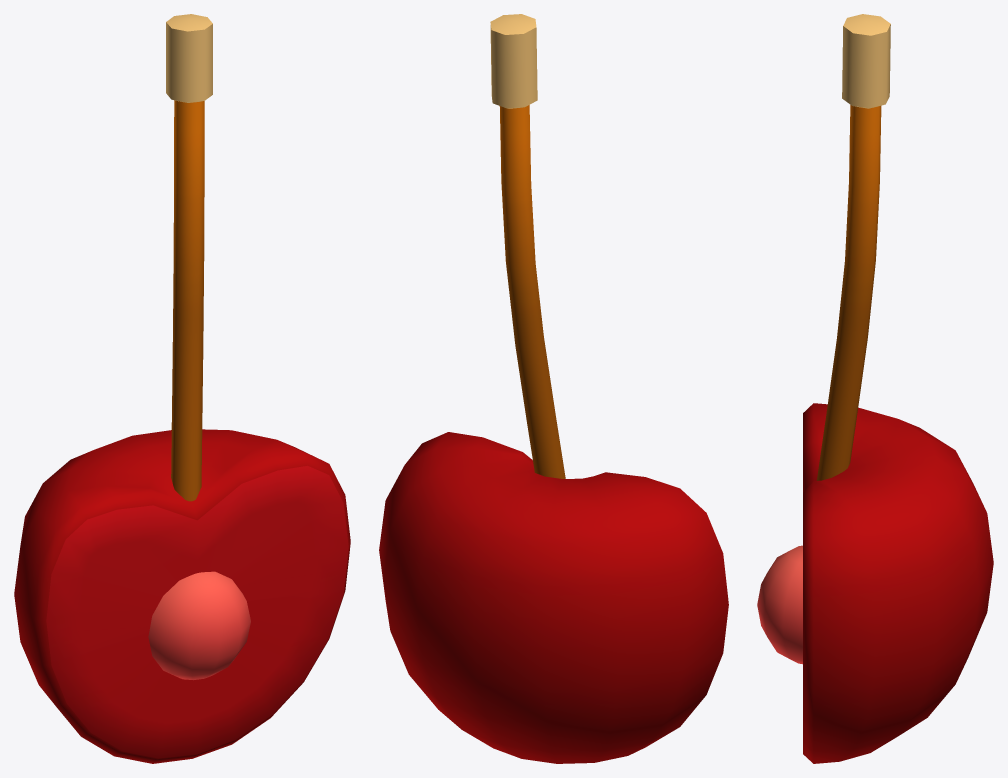
File: Half_a_cherry_01.fbx
3 renders of one model, left to right at view 1: azimuth 30°, elevation 25°; view 2: azimuth 150°, elevation 25°; view 3: azimuth 270°, elevation 25°, orthographic. The views are drawn at different scales.
Visible parts, largest first — view 1: Half_a_cherry_01; view 2: Half_a_cherry_01; view 3: Half_a_cherry_01.
Part boxes in pixels (x1,y1,x2,y2): Half_a_cherry_01: [14, 14, 350, 763]; Half_a_cherry_01: [379, 14, 728, 763]; Half_a_cherry_01: [757, 14, 993, 763].
Size of the model in its own units: 52.12 by 112 by 32.69.
